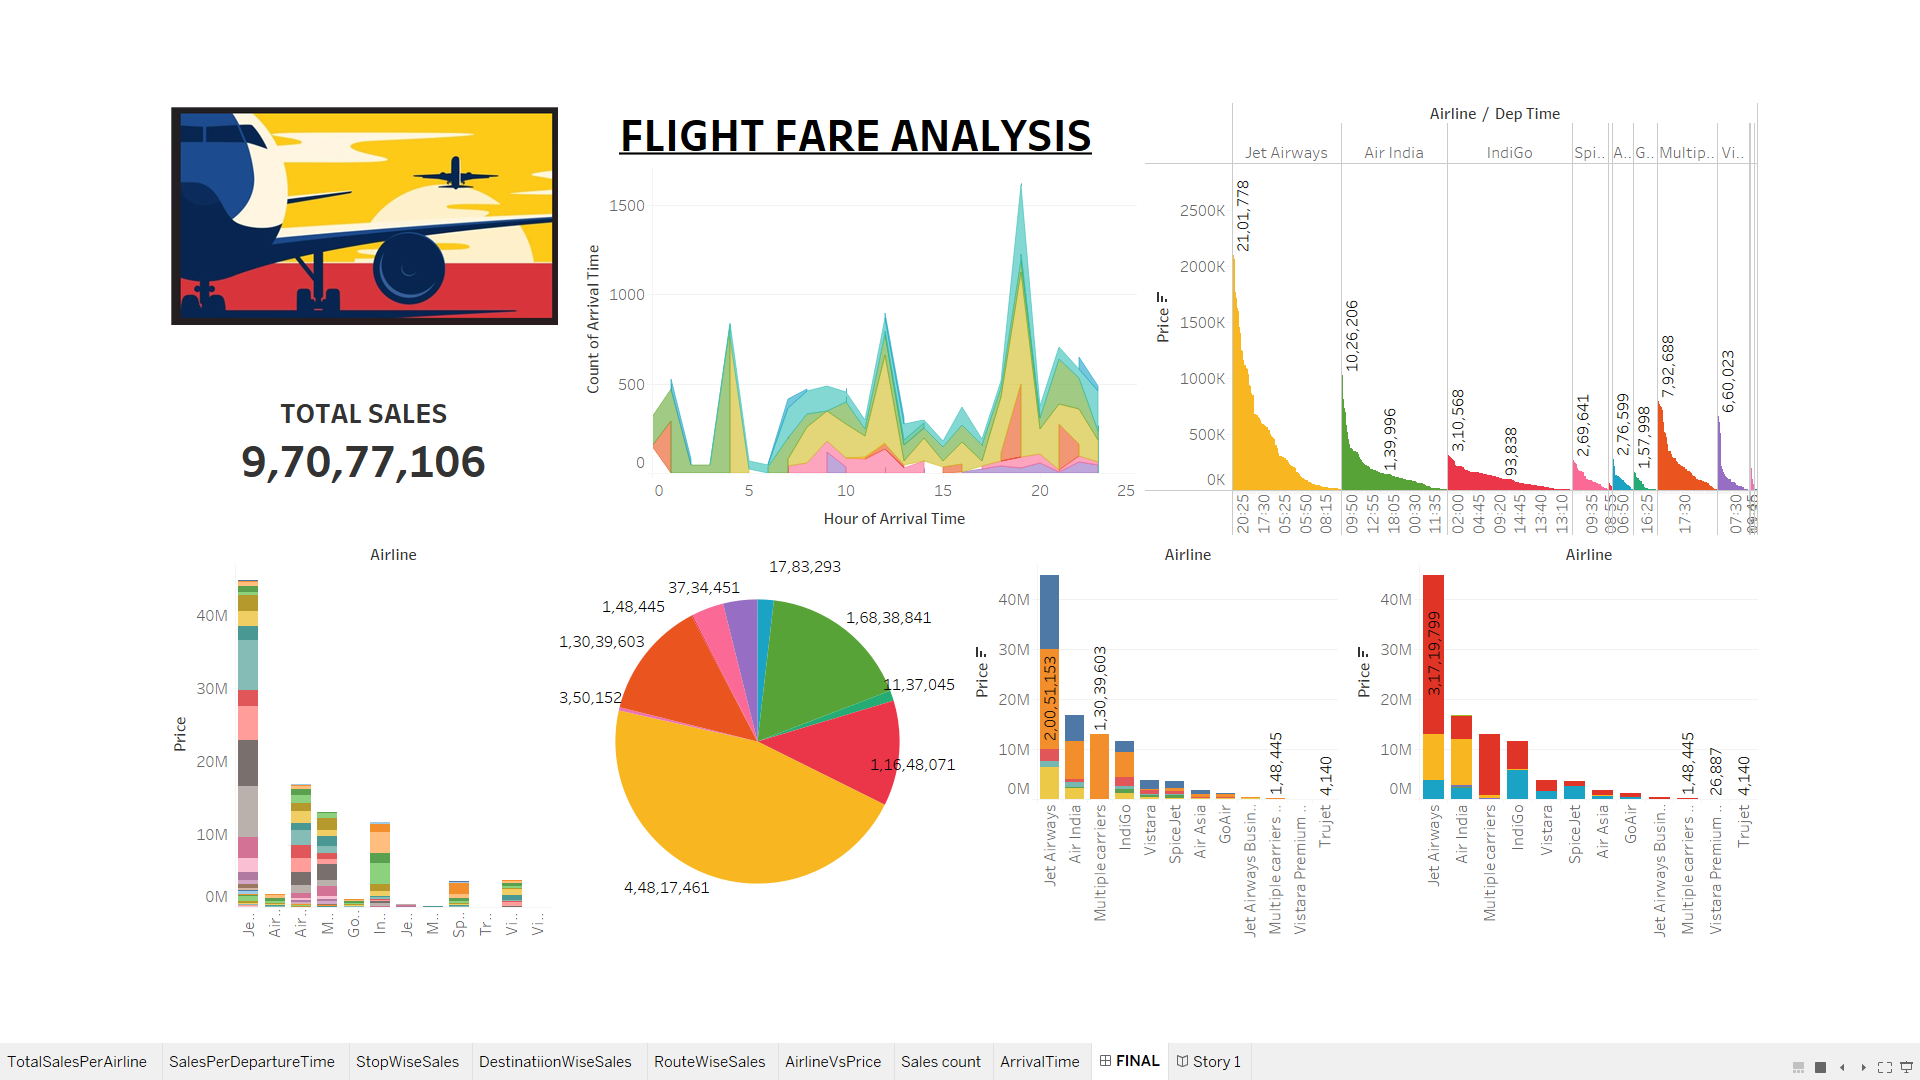

The dashboard page shown, as its layout file describes it:
{"tool":"tableau","page":{"name":"FINAL","canvas":[1000,1000],"units":"permille","ordinal":0},"visuals":[{"type":"worksheet","title":"SalesPerDepartureTime","mark":"Automatic","rows":["Price"],"cols":["Airline","Dep_Time"],"box":[611.6,12.3,383.1,509.6]},{"type":"image","param":"Image/image1.png","box":[5.3,16.9,254.8,261.4]},{"type":"text","box":[260,16.9,351.6,70.8]},{"type":"worksheet","title":"ArrivalTime","mark":"Area","rows":["Arrival_Time"],"cols":["Arrival_Time"],"box":[260,87.8,351.6,434.2]},{"type":"worksheet","title":"Sales count","mark":"Automatic","box":[5.3,278.3,254.8,243.6]},{"type":"worksheet","title":"AirlineVsPrice","mark":"Automatic","rows":["Price"],"cols":["Airline"],"box":[5.3,521.9,244.9,465.8]},{"type":"worksheet","title":"TotalSalesPerAirline","mark":"Pie","box":[250.2,521.9,249.8,465.8]},{"type":"worksheet","title":"DestinatiionWiseSales","mark":"Automatic","rows":["Price"],"cols":["Airline"],"box":[500,521.9,235.6,465.8]},{"type":"worksheet","title":"StopWiseSales","mark":"Automatic","rows":["Price"],"cols":["Airline"],"box":[735.6,521.9,259.1,465.8]}]}

Visuals, with their boxes on the dashboard's canvas, which has no fixed pixel size, in thousandths of its width and height (x1, y1, x2, y2). These are canvas units, not pixel positions in the 1920x1080 screenshot, which may show the page scaled, cropped or inside an application window:
"SalesPerDepartureTime" worksheet: region(612, 12, 995, 522)
image: region(5, 17, 260, 278)
text: region(260, 17, 612, 88)
"ArrivalTime" worksheet (Area marks): region(260, 88, 612, 522)
"Sales count" worksheet: region(5, 278, 260, 522)
"AirlineVsPrice" worksheet: region(5, 522, 250, 988)
"TotalSalesPerAirline" worksheet (Pie marks): region(250, 522, 500, 988)
"DestinatiionWiseSales" worksheet: region(500, 522, 736, 988)
"StopWiseSales" worksheet: region(736, 522, 995, 988)
